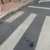others: (1, 1, 49, 14)
